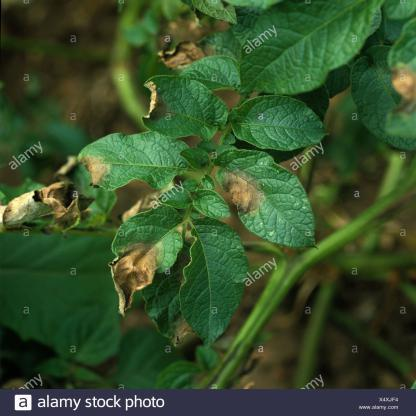Potato leaf: (218, 146, 320, 252), (104, 202, 184, 322), (76, 129, 189, 193), (138, 71, 228, 146)
